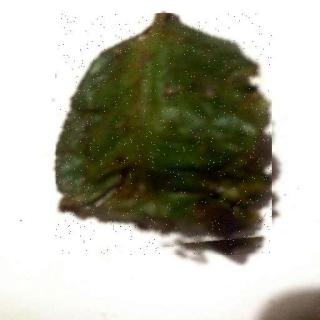Red Leaf Spot: (57, 14, 275, 256)
